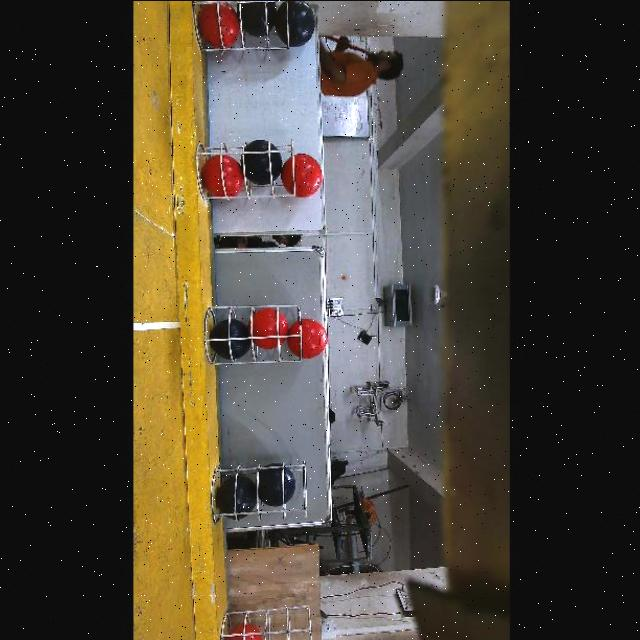P: (277, 0, 317, 46), (242, 142, 284, 184), (256, 462, 296, 505), (218, 474, 257, 518), (212, 318, 250, 359), (237, 0, 277, 36)
R: (202, 154, 244, 196), (199, 3, 240, 44), (249, 307, 288, 348), (288, 318, 327, 357), (286, 155, 322, 195), (227, 623, 263, 640)
S: (216, 454, 310, 524), (198, 135, 298, 199), (202, 308, 306, 367), (197, 0, 297, 56), (228, 598, 316, 640)
